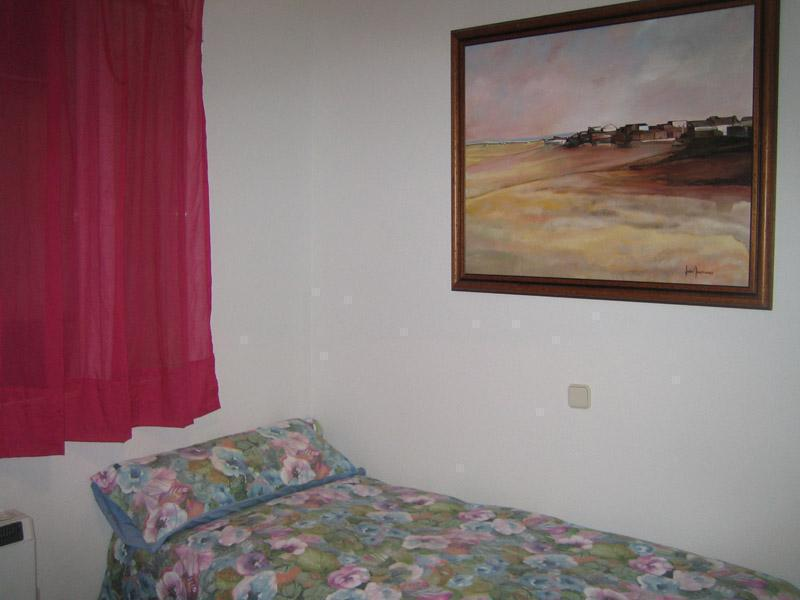Cama: (73, 421, 784, 596)
